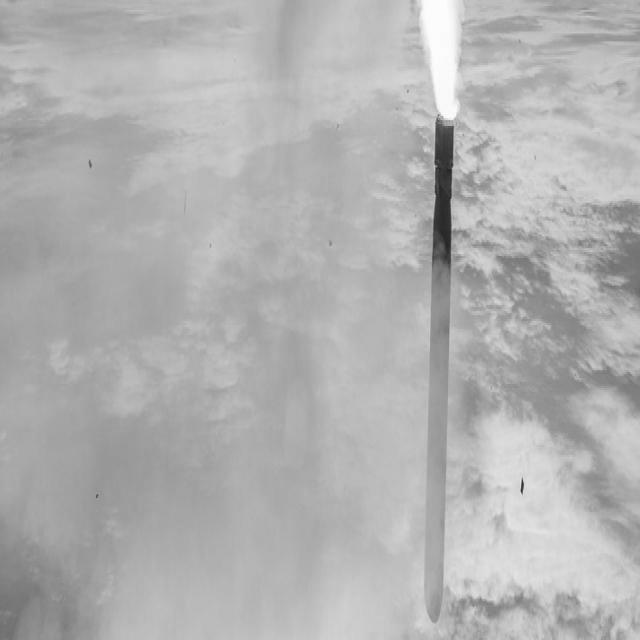missile: (418, 103, 458, 620)
